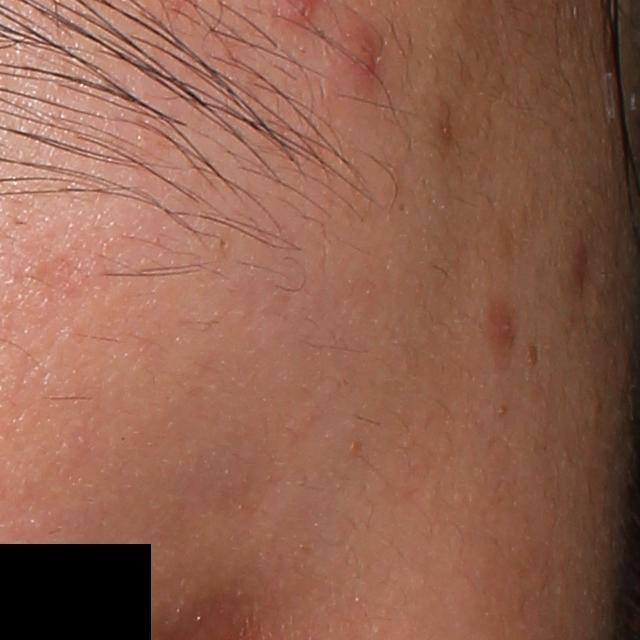papule: (329, 10, 381, 100), (487, 305, 524, 344)
